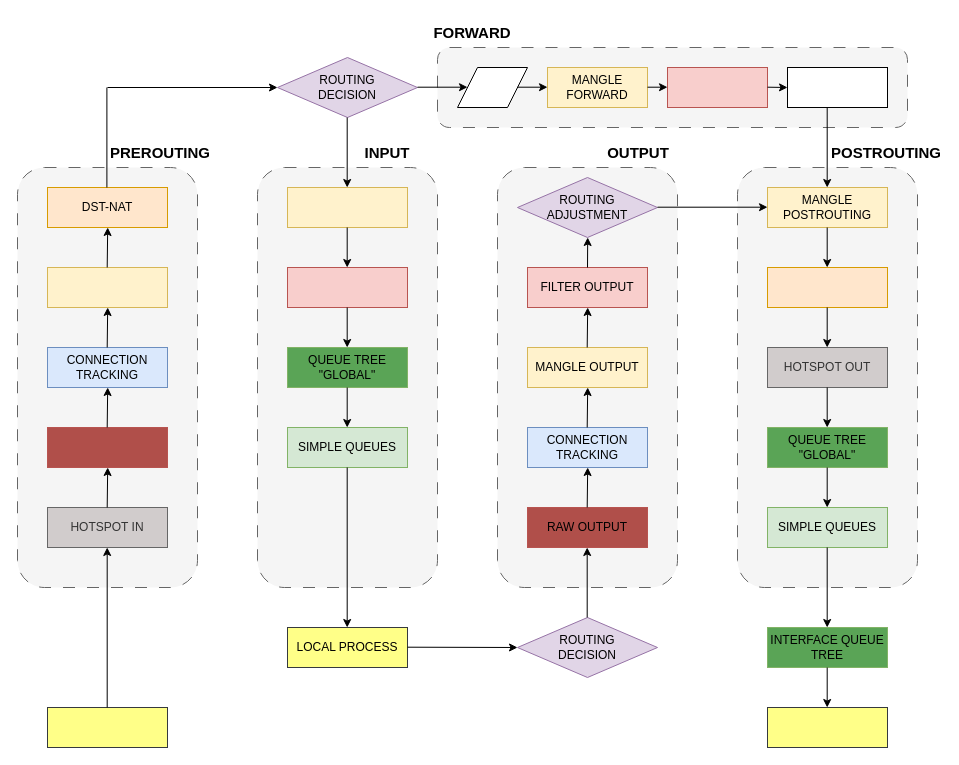
Image size: 959x765. Some labels were removed from this diagram. Each missing label, with the centre of its shape:
ACCOUNTING: [837,87]
FILTER FORWARD: [717,87]
FILTER INPUT: [347,287]
INPUT INTERFACE: [107,727]
MANGLE INPUT: [347,207]
MANGLE PREROUTING: [107,287]
OUTPUT INTERFACE: [827,727]
RAW PREROUTING: [107,447]
SRC-NAT: [827,287]
TTL-1: [492,87]
